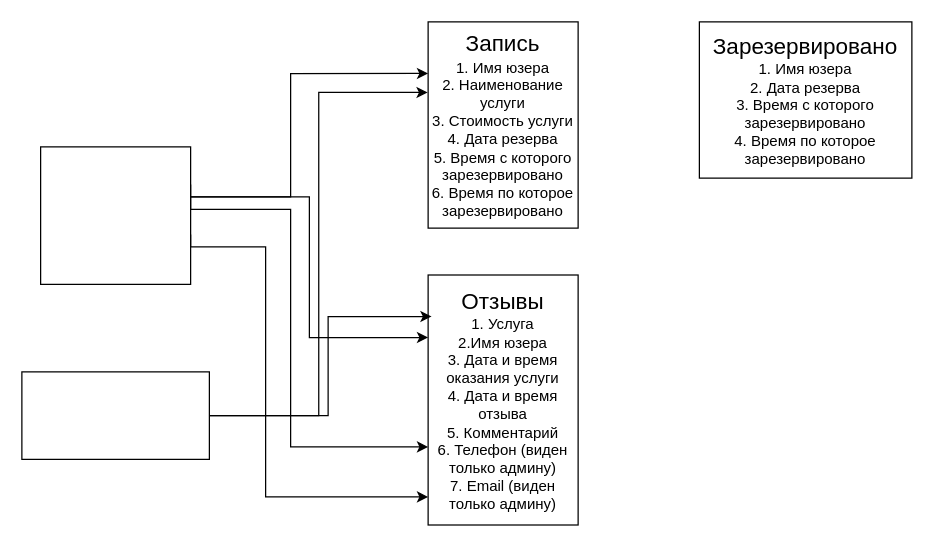
This 934x548 diagram has some shape labels left out. The shapes that lost their labels are listed below. From the top down, each one's box as (x1, y1, x2, y2) in pixels, then its label:
(39, 146, 191, 284): Юзеры 1. Имя (one-to-many) 2. Телефон (one-to-many) 3. Email (one-to-many)
(21, 371, 209, 459): Услуги 1. Наименование услуги (one-to-many) 2. Цена услуги за час
